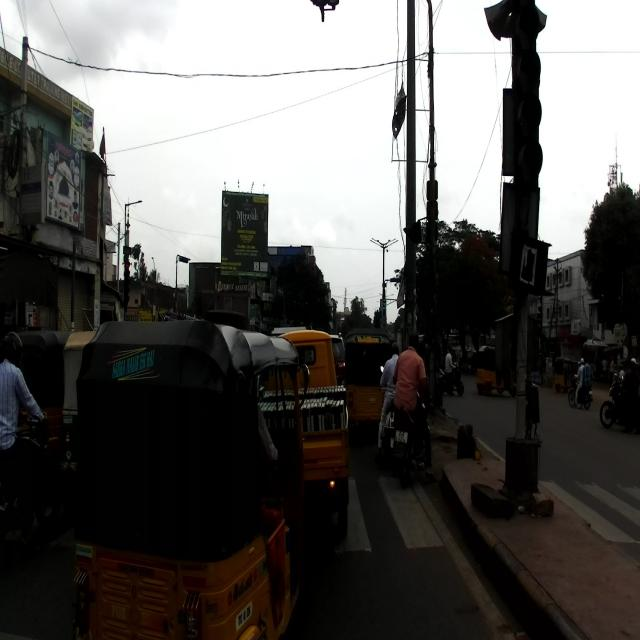autorickshaw: (68, 317, 310, 639), (279, 330, 351, 540), (15, 326, 68, 431)
motorcycle: (0, 412, 65, 558)
